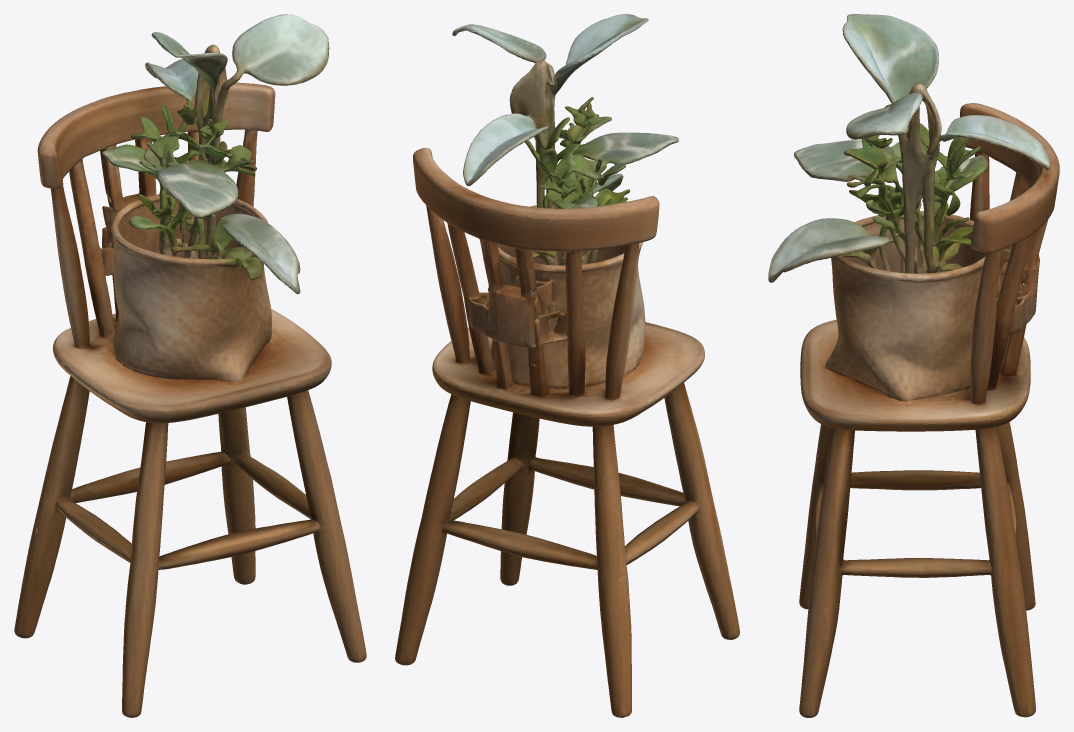
File: item_e5a5f2e4.glb
3 renders of one model, left to right at view 1: azimuth 30°, elevation 25°; view 2: azimuth 150°, elevation 25°; view 3: azimuth 270°, elevation 25°, orthographic. The views are drawn at different scales.
Visible parts, largest first — view 1: world; view 2: world; view 3: world.
Part boxes in pixels (left/top/right/bottom): world: left=14, top=14, right=366, bottom=717; world: left=395, top=14, right=739, bottom=717; world: left=768, top=14, right=1059, bottom=717.
Size of the model in its own units: 0.1138 by 0.28 by 0.1186.
1 material, 1 textured.
